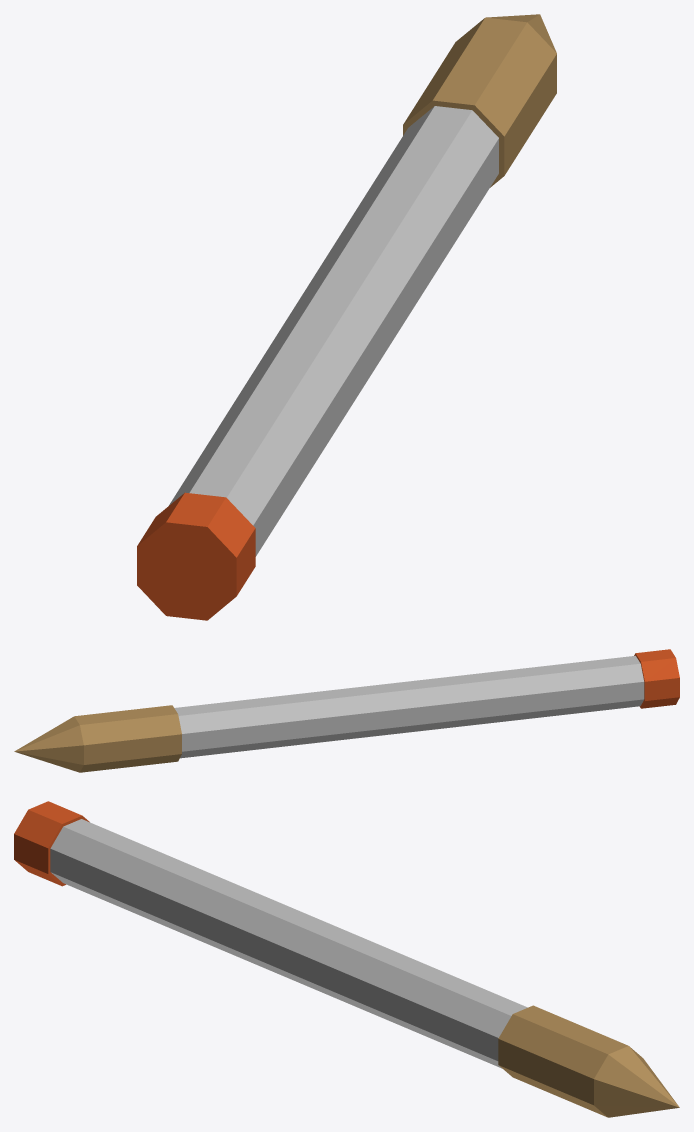
The model's file is ce_ammo2_s5_he_a.obj.
3 renders of one model, top to bottom at view 1: azimuth 30°, elevation 25°; view 2: azimuth 150°, elevation 25°; view 3: azimuth 270°, elevation 25°, orthographic. The views are drawn at different scales.
Parts seen in each view (by area): view 1: ce_ammo2_s5_he_a_1, ce_ammo2_s5_he_a_2, ce_ammo2_s5_he_a_0; view 2: ce_ammo2_s5_he_a_1, ce_ammo2_s5_he_a_2, ce_ammo2_s5_he_a_3, ce_ammo2_s5_he_a_0; view 3: ce_ammo2_s5_he_a_1, ce_ammo2_s5_he_a_2, ce_ammo2_s5_he_a_3, ce_ammo2_s5_he_a_0.
Boxes of the visible parts, x1,y1,x2,y2 form: ce_ammo2_s5_he_a_1: [169, 106, 498, 556]; ce_ammo2_s5_he_a_2: [403, 17, 556, 187]; ce_ammo2_s5_he_a_0: [137, 492, 255, 620]; ce_ammo2_s5_he_a_1: [174, 655, 644, 758]; ce_ammo2_s5_he_a_2: [74, 705, 181, 772]; ce_ammo2_s5_he_a_3: [14, 716, 83, 772]; ce_ammo2_s5_he_a_0: [634, 649, 679, 708]; ce_ammo2_s5_he_a_1: [50, 819, 527, 1068]; ce_ammo2_s5_he_a_2: [498, 1005, 628, 1117]; ce_ammo2_s5_he_a_3: [594, 1046, 679, 1117]; ce_ammo2_s5_he_a_0: [14, 801, 89, 886].
Bounding box in the file's own units: 0.6898 × 0.0724 × 0.6898.
